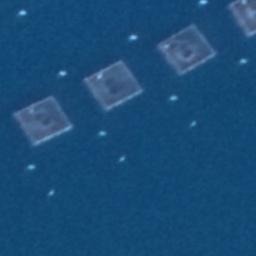square_cover: (81, 57, 145, 115), (154, 21, 217, 79), (13, 94, 76, 151), (223, 2, 256, 42)
